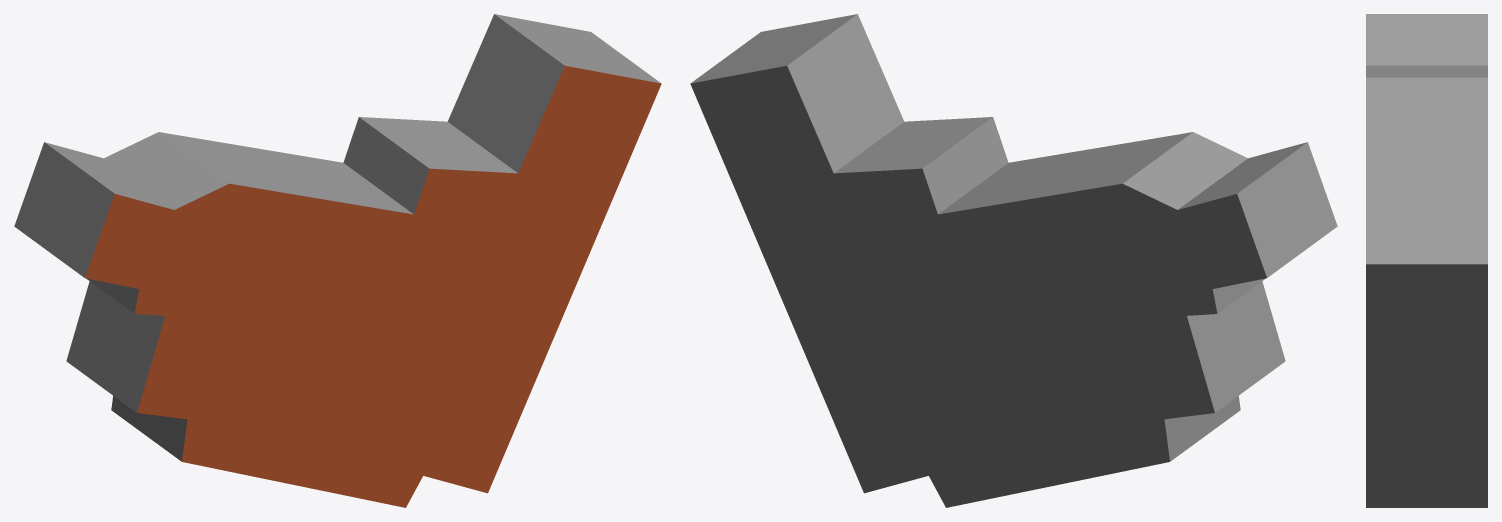
The model's file is construction_5304_assumed_A_Casa_h6m.obj.
3 views of the same model, side by side, from view 1: azimuth 30°, elevation 25°; view 2: azimuth 150°, elevation 25°; view 3: azimuth 270°, elevation 25° (orthographic). The views are drawn at different scales.
Visible parts, largest first — view 1: construction_5304_assumed_A_Casa; view 2: construction_5304_assumed_A_Casa; view 3: construction_5304_assumed_A_Casa.
Boxes of the visible parts, box(x1,y1,x2,y2) form: construction_5304_assumed_A_Casa: box(14, 14, 661, 507); construction_5304_assumed_A_Casa: box(690, 14, 1337, 507); construction_5304_assumed_A_Casa: box(1366, 14, 1487, 507).
Bounding box in the file's own units: 28.29 × 19.16 × 6.
